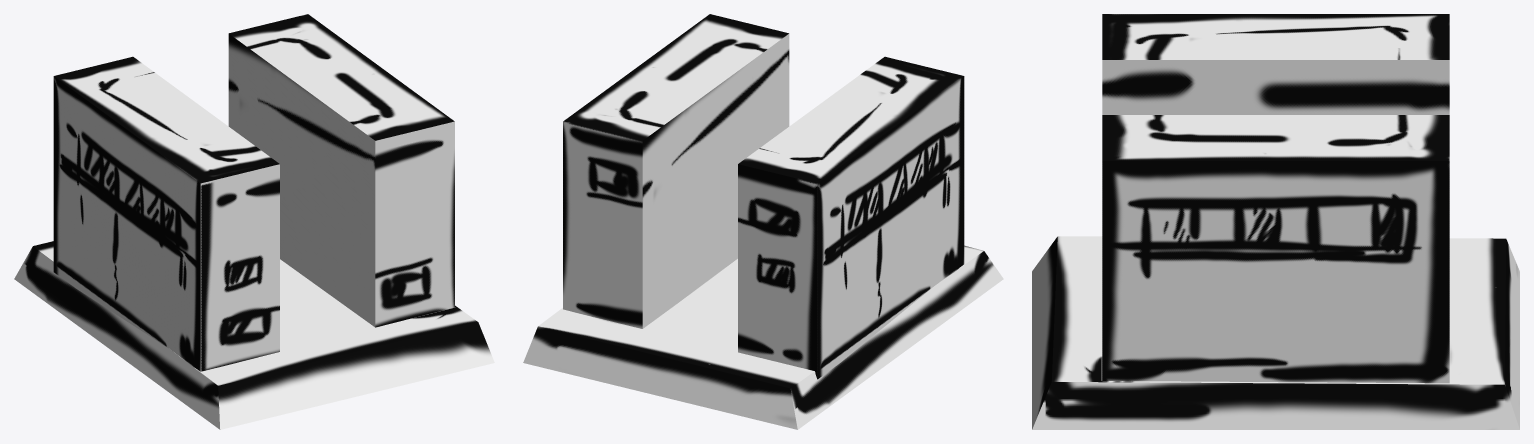
Rendered from Haus mit Loch.fbx.
3 views of the same model, side by side, from view 1: azimuth 30°, elevation 25°; view 2: azimuth 150°, elevation 25°; view 3: azimuth 270°, elevation 25° (orthographic). The views are drawn at different scales.
Visible parts, largest first — view 1: Cube.001; view 2: Cube.001; view 3: Cube.001.
Part boxes in pixels (x1=…): Cube.001: x1=14, y1=14, x2=494, y2=429; Cube.001: x1=523, y1=14, x2=1003, y2=429; Cube.001: x1=1032, y1=14, x2=1519, y2=429.
Size of the model in its own units: 216 by 167 by 281.
